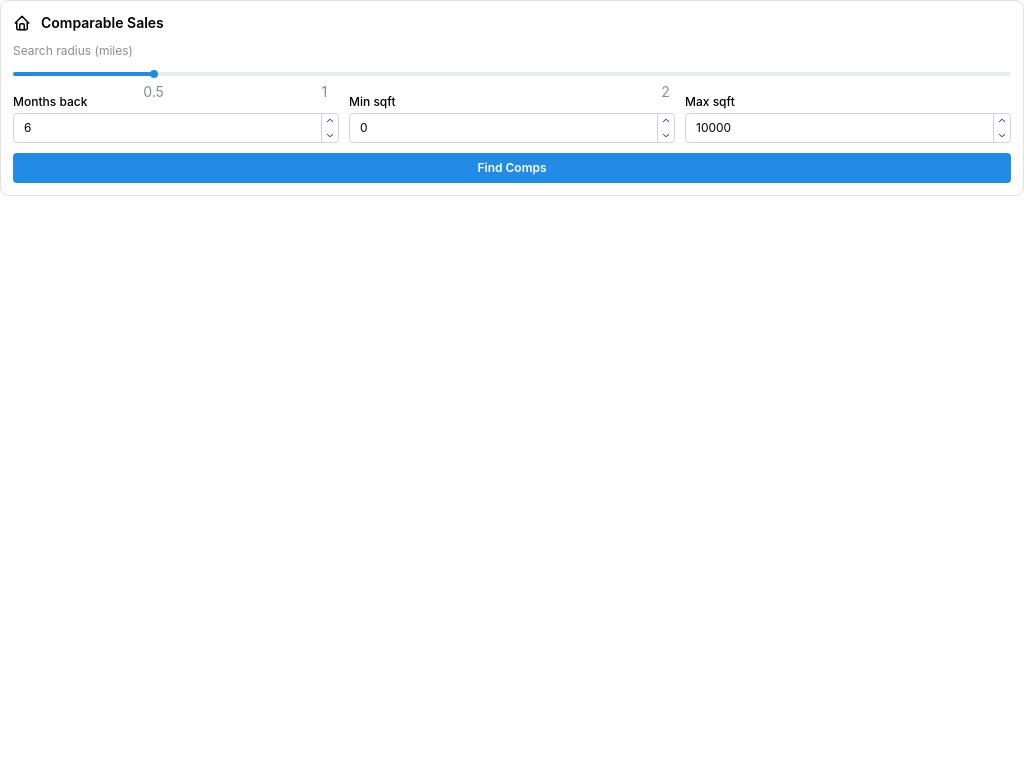
it: CompsPanel › says nothing about an empty search once sales come back
This screenshot has width=1024, height=768.
Click the button "Find Comps": (512, 168) top-left (13, 153), bottom-right (1011, 183)
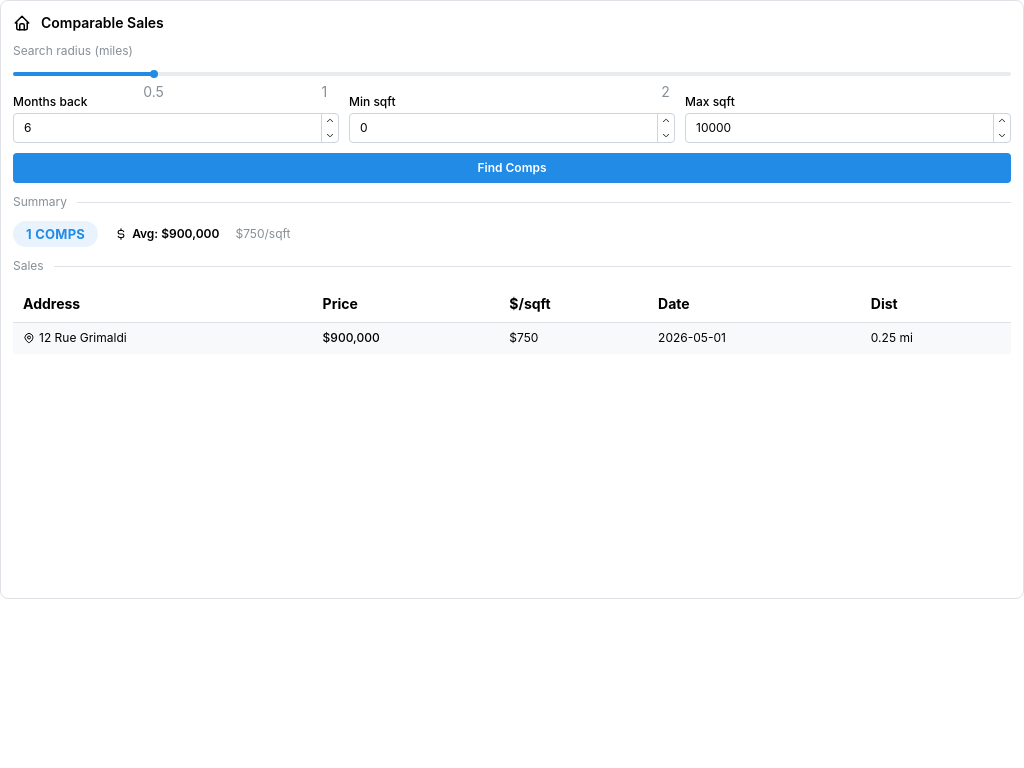
Expected: the text "12 Rue Grimaldi" is shown, top-left (39, 330), bottom-right (127, 347)
